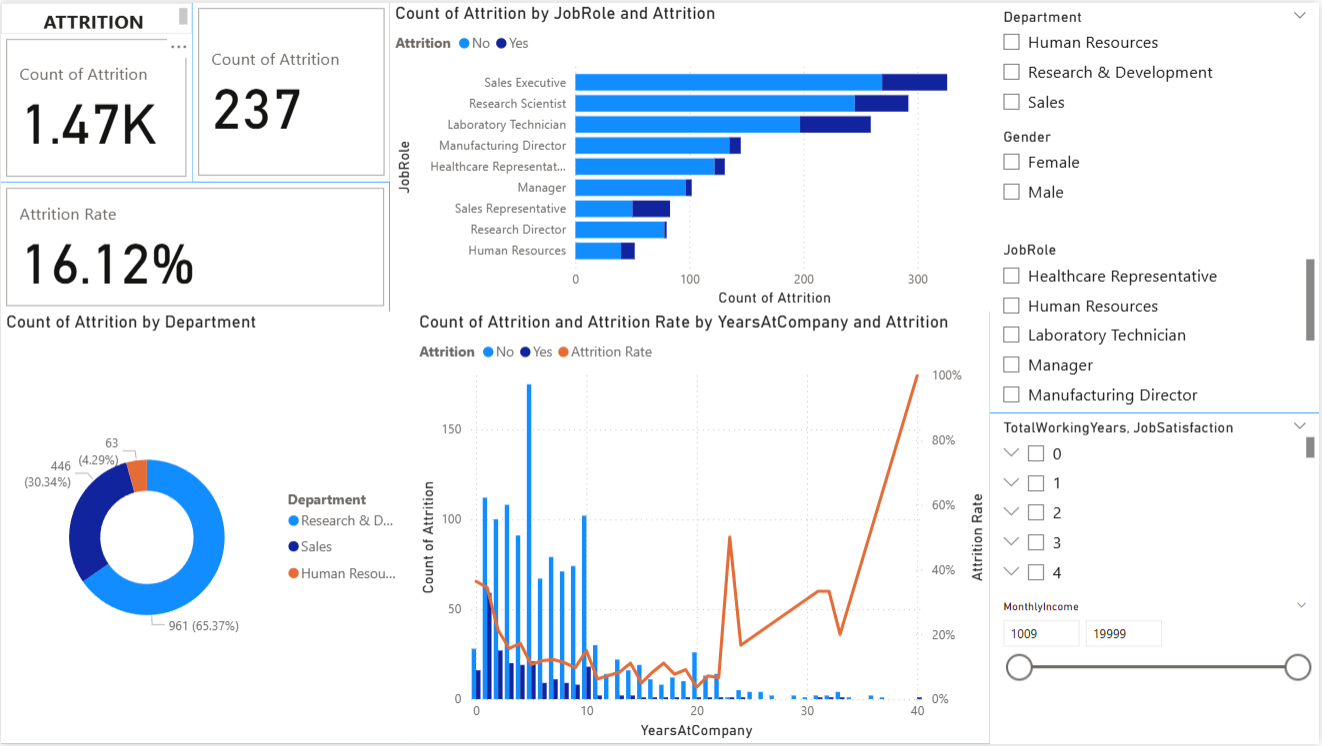

What the dashboard file says about the page in this screenshot:
{"tool":"powerbi","page":{"name":"Page 1","canvas":[1280,720],"ordinal":0},"visuals":[{"type":"cardVisual","title":"Total No. of Emp","fields":{"Data":["CountNonNull(cleaned_hr_data_for_dashboard.Attrition)"]},"box":[0,30,185.7,144.3],"z":0},{"type":"cardVisual","fields":{"Data":["CountNonNull(cleaned_hr_data_for_dashboard.Attrition)"]},"box":[197,0,186,174],"z":1000},{"type":"cardVisual","fields":{"Data":["cleaned_hr_data_for_dashboard.Attrition Rate"]},"box":[0,174,208,126],"z":2000},{"type":"textbox","box":[0,0,185.6,30],"z":3000},{"type":"barChart","fields":{"Category":["cleaned_hr_data_for_dashboard.JobRole"],"Y":["CountNonNull(cleaned_hr_data_for_dashboard.Attrition)"],"Series":["cleaned_hr_data_for_dashboard.Attrition"]},"box":[393,0,588,300],"z":4000},{"type":"donutChart","fields":{"Category":["cleaned_hr_data_for_dashboard.Department"],"Y":["CountNonNull(cleaned_hr_data_for_dashboard.Attrition)"]},"box":[0,300,401.2,420],"z":5000},{"type":"lineClusteredColumnComboChart","fields":{"Category":["cleaned_hr_data_for_dashboard.YearsAtCompany"],"Y":["CountNonNull(cleaned_hr_data_for_dashboard.Attrition)"],"Series":["cleaned_hr_data_for_dashboard.Attrition"],"Y2":["cleaned_hr_data_for_dashboard.Attrition Rate"]},"box":[401.1,300,558.9,420],"z":6000},{"type":"slicer","fields":{"Values":["cleaned_hr_data_for_dashboard.Department"]},"box":[981,0,299,128],"z":7000},{"type":"slicer","fields":{"Values":["cleaned_hr_data_for_dashboard.JobRole"]},"box":[981,209,299,151],"z":8000},{"type":"slicer","fields":{"Values":["cleaned_hr_data_for_dashboard.Gender"]},"box":[981,117,299,87],"z":9000},{"type":"slicer","fields":{"Values":["cleaned_hr_data_for_dashboard.TotalWorkingYears"]},"box":[981,350,299,117],"z":10000},{"type":"slicer","fields":{"Values":["cleaned_hr_data_for_dashboard.MonthlyIncome"]},"box":[981,467,299,100],"z":11000},{"type":"cardVisual","fields":{"Data":["Avg(cleaned_hr_data_for_dashboard.Age)"]},"box":[214,179,152,116],"z":12000},{"type":"slicer","fields":{"Values":["cleaned_hr_data_for_dashboard.Age"]},"box":[981,567,299,153],"z":13000}]}

Visuals, with their boxes on the page's 1280x720 design canvas (x1, y1, x2, y2). These are canvas units, not pixel positions in the 1322x746 screenshot, which may show the page scaled, cropped or inside an application window:
"Total No. of Emp" cardVisual: 0/30/186/174
cardVisual - CountNonNull(cleaned_hr_data_for_dashboard.Attrition): 197/0/383/174
cardVisual - cleaned_hr_data_for_dashboard.Attrition Rate: 0/174/208/300
textbox: 0/0/186/30
barChart - cleaned_hr_data_for_dashboard.JobRole x CountNonNull(cleaned_hr_data_for_dashboard.Attrition): 393/0/981/300
donutChart - cleaned_hr_data_for_dashboard.Department x CountNonNull(cleaned_hr_data_for_dashboard.Attrition): 0/300/401/720
lineClusteredColumnComboChart - cleaned_hr_data_for_dashboard.YearsAtCompany x CountNonNull(cleaned_hr_data_for_dashboard.Attrition): 401/300/960/720
slicer - cleaned_hr_data_for_dashboard.Department: 981/0/1280/128
slicer - cleaned_hr_data_for_dashboard.JobRole: 981/209/1280/360
slicer - cleaned_hr_data_for_dashboard.Gender: 981/117/1280/204
slicer - cleaned_hr_data_for_dashboard.TotalWorkingYears: 981/350/1280/467
slicer - cleaned_hr_data_for_dashboard.MonthlyIncome: 981/467/1280/567
cardVisual - Avg(cleaned_hr_data_for_dashboard.Age): 214/179/366/295
slicer - cleaned_hr_data_for_dashboard.Age: 981/567/1280/720
